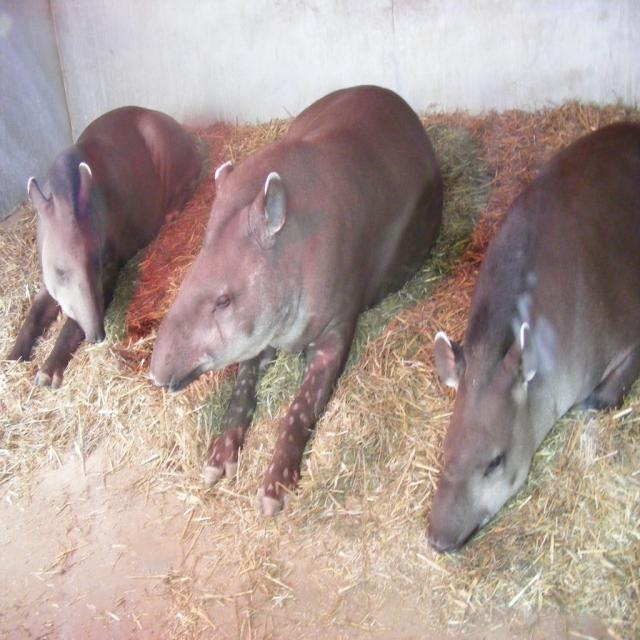Pig: (148, 81, 445, 515), (424, 119, 640, 554), (7, 102, 204, 390)
